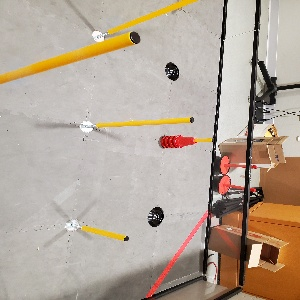Red_4: (157, 132, 206, 150)
